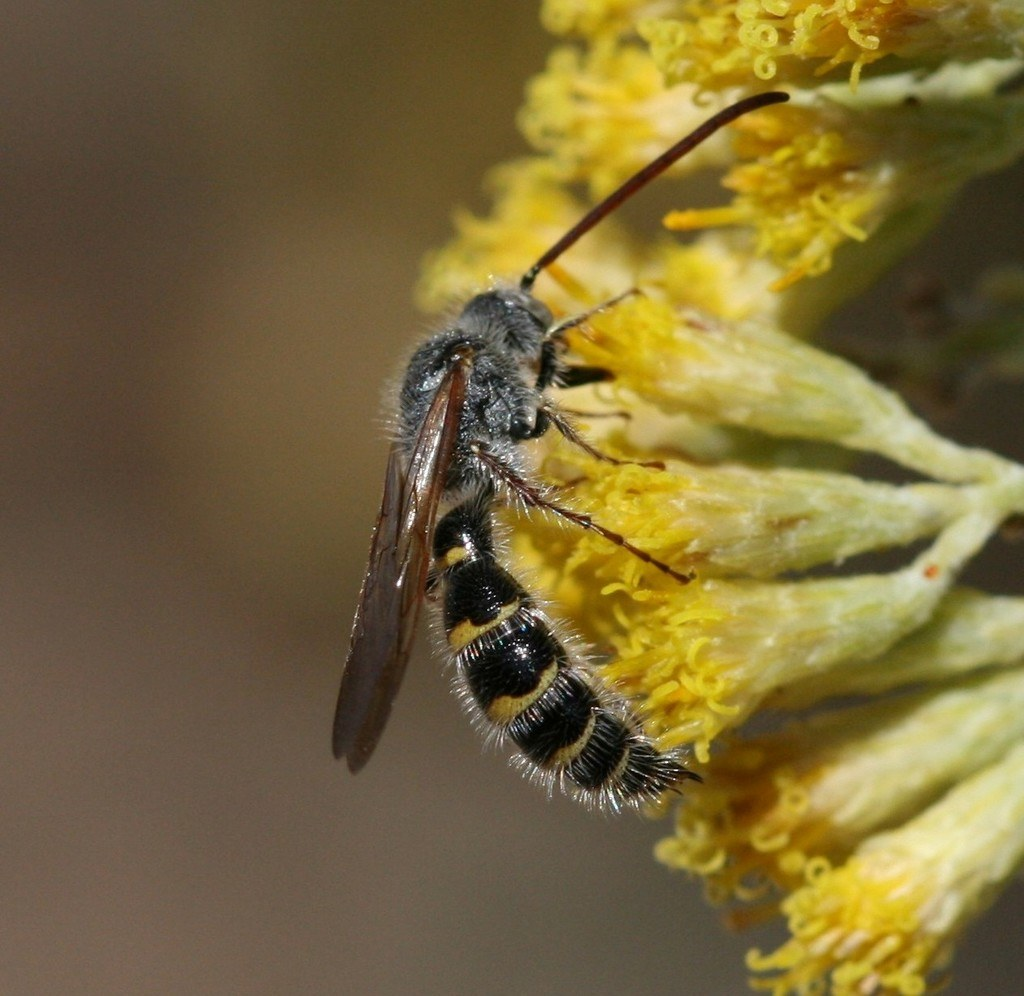bee: (329, 91, 784, 820)
